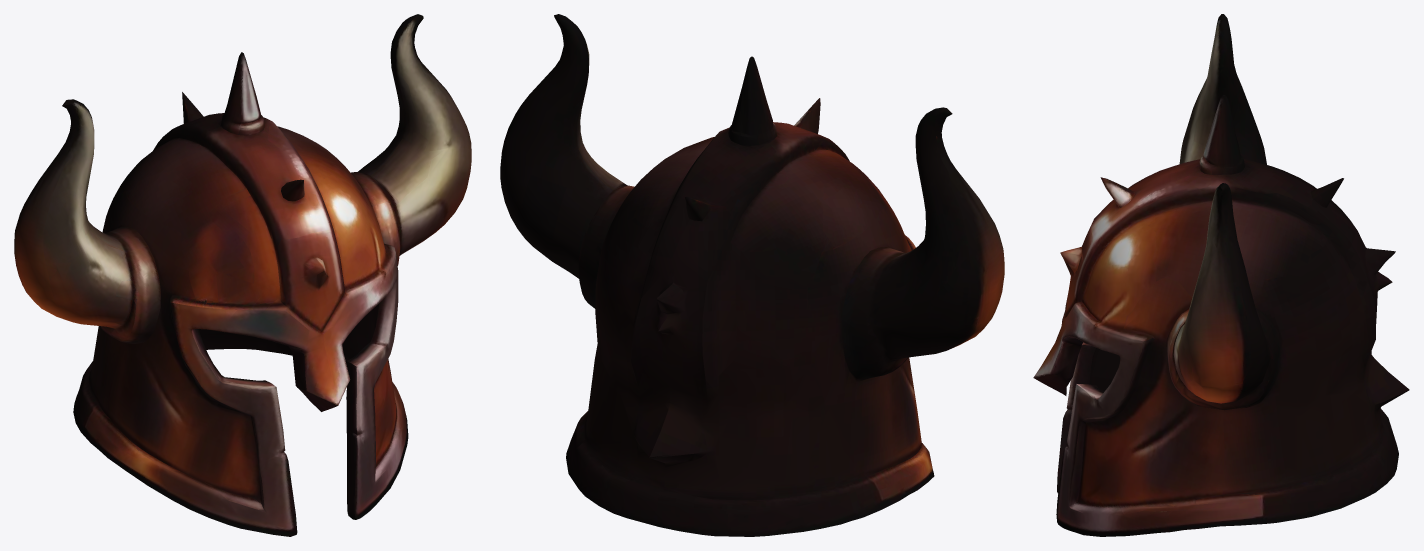
Rendered from jarl_helm.glb.
3 renders of one model, left to right at view 1: azimuth 30°, elevation 25°; view 2: azimuth 150°, elevation 25°; view 3: azimuth 270°, elevation 25°, orthographic. The views are drawn at different scales.
Visible parts, largest first — view 1: world; view 2: world; view 3: world.
Boxes of the visible parts, x1,y1,x2,y2 form: world: (14, 14, 471, 536); world: (500, 14, 1004, 536); world: (1033, 14, 1409, 536).
Bounding box in the file's own units: 0.4456 × 0.399 × 0.3294.
1 material, 1 textured.
